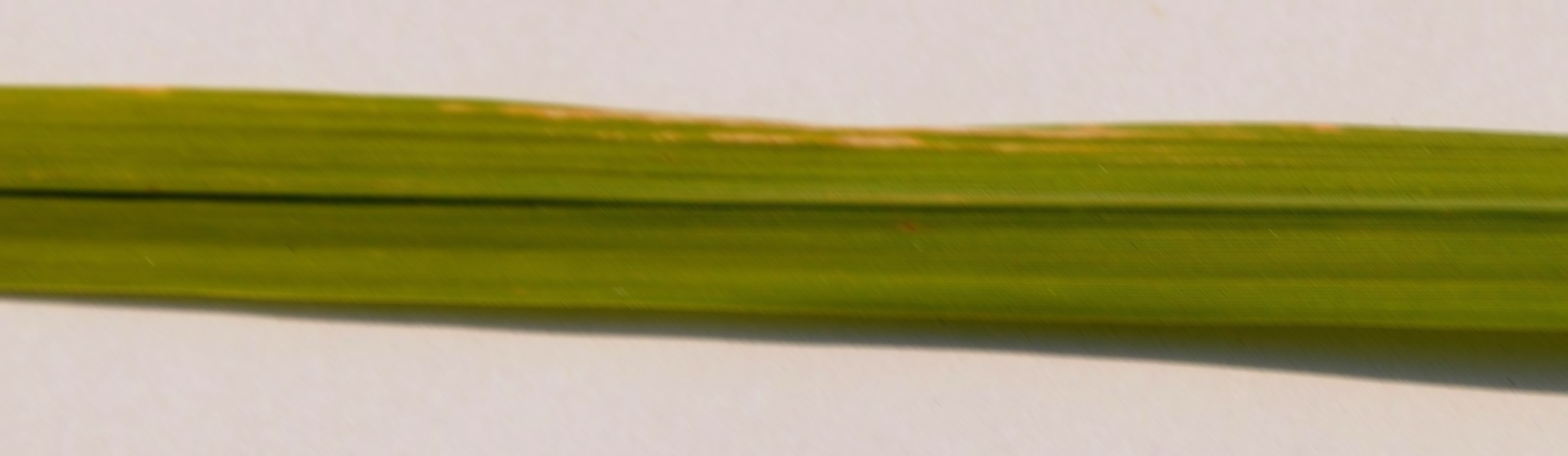Leaf_Blast: (293, 92, 1398, 145)
